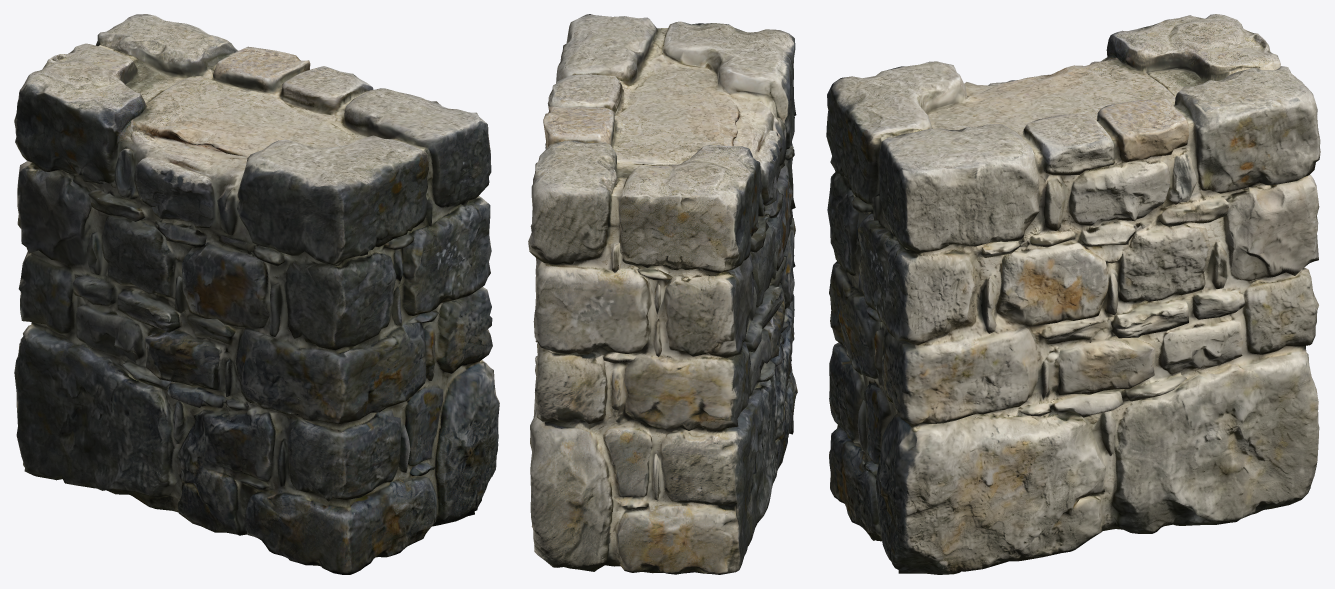
3 views of the same model, side by side, from view 1: azimuth 30°, elevation 25°; view 2: azimuth 150°, elevation 25°; view 3: azimuth 270°, elevation 25° (orthographic). The views are drawn at different scales.
Parts seen in each view (by area): view 1: tripo_node_e71d6d7f-038b-4441-ae7c-b22e94365ada; view 2: tripo_node_e71d6d7f-038b-4441-ae7c-b22e94365ada; view 3: tripo_node_e71d6d7f-038b-4441-ae7c-b22e94365ada.
Boxes of the visible parts, left/top/right/bottom form: tripo_node_e71d6d7f-038b-4441-ae7c-b22e94365ada: left=14, top=14, right=499, bottom=574; tripo_node_e71d6d7f-038b-4441-ae7c-b22e94365ada: left=528, top=14, right=797, bottom=574; tripo_node_e71d6d7f-038b-4441-ae7c-b22e94365ada: left=826, top=14, right=1320, bottom=574.
Size of the model in its own units: 0.7954 by 0.9192 by 0.9823.
Materials: 1 (1 with a texture image).
